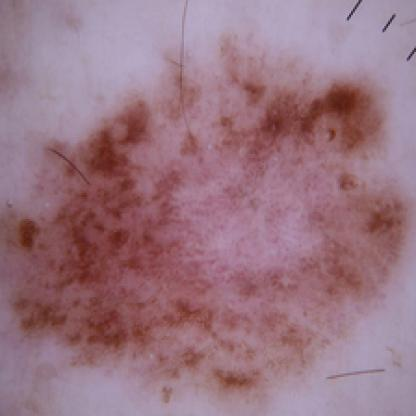Skin_Cancer-Malignant: (0, 39, 413, 407)
